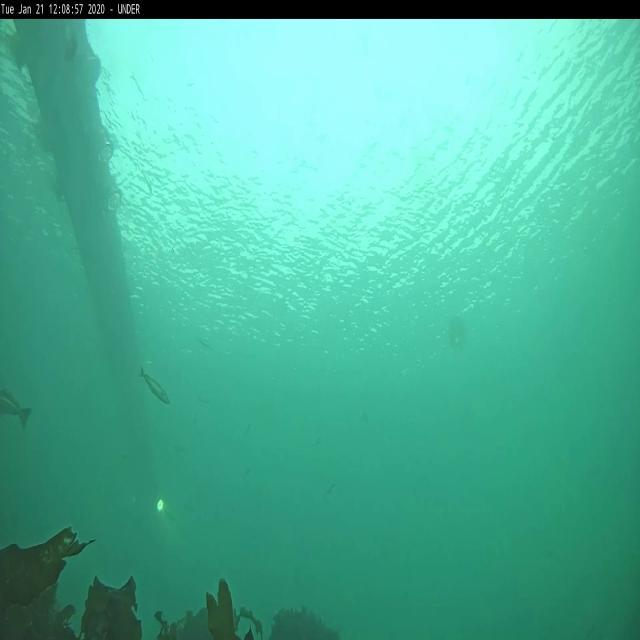fish: (1, 390, 34, 430), (138, 366, 168, 404)
